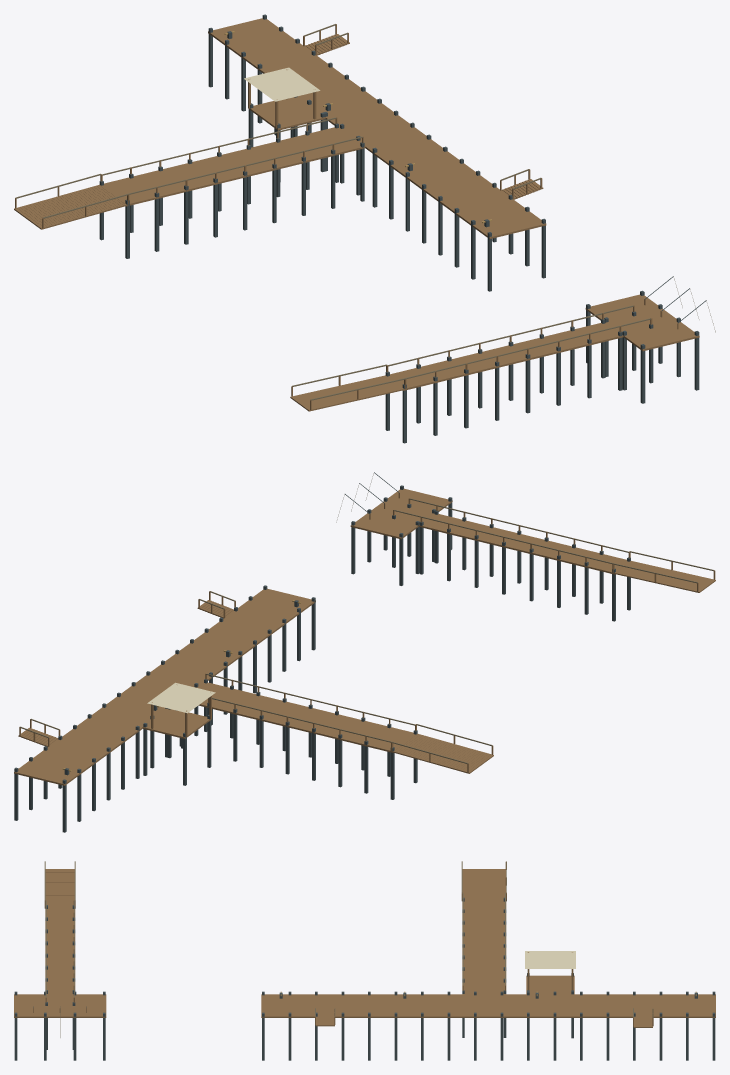
Rendered from WesthavenPortV8.glb.
3 renders of one model, top to bottom at view 1: azimuth 30°, elevation 25°; view 2: azimuth 150°, elevation 25°; view 3: azimuth 270°, elevation 25°, orthographic. The views are drawn at different scales.
Parts seen in each view (by area): view 1: Westhaven docks, fishing pier, and boarding ramps; view 2: Westhaven docks, fishing pier, and boarding ramps; view 3: Westhaven docks, fishing pier, and boarding ramps.
Part boxes in pixels (bbox=[...]): Westhaven docks, fishing pier, and boarding ramps: bbox=[14, 14, 715, 443]; Westhaven docks, fishing pier, and boarding ramps: bbox=[14, 472, 715, 832]; Westhaven docks, fishing pier, and boarding ramps: bbox=[14, 861, 715, 1060].
Size of the model in its own units: 43.78 by 8.4 by 79.46.
